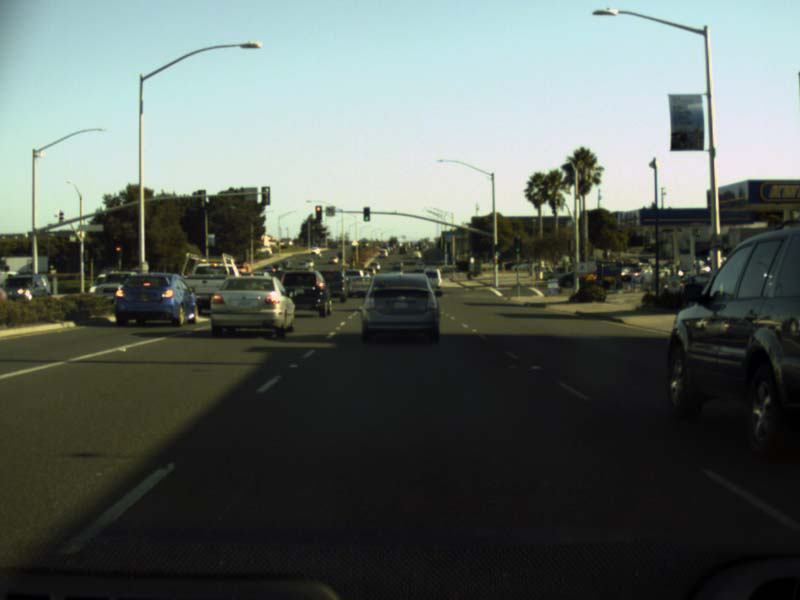Green: (362, 207, 370, 222), (513, 238, 520, 253), (494, 245, 499, 255)
Red: (113, 244, 122, 259), (314, 205, 322, 219)
